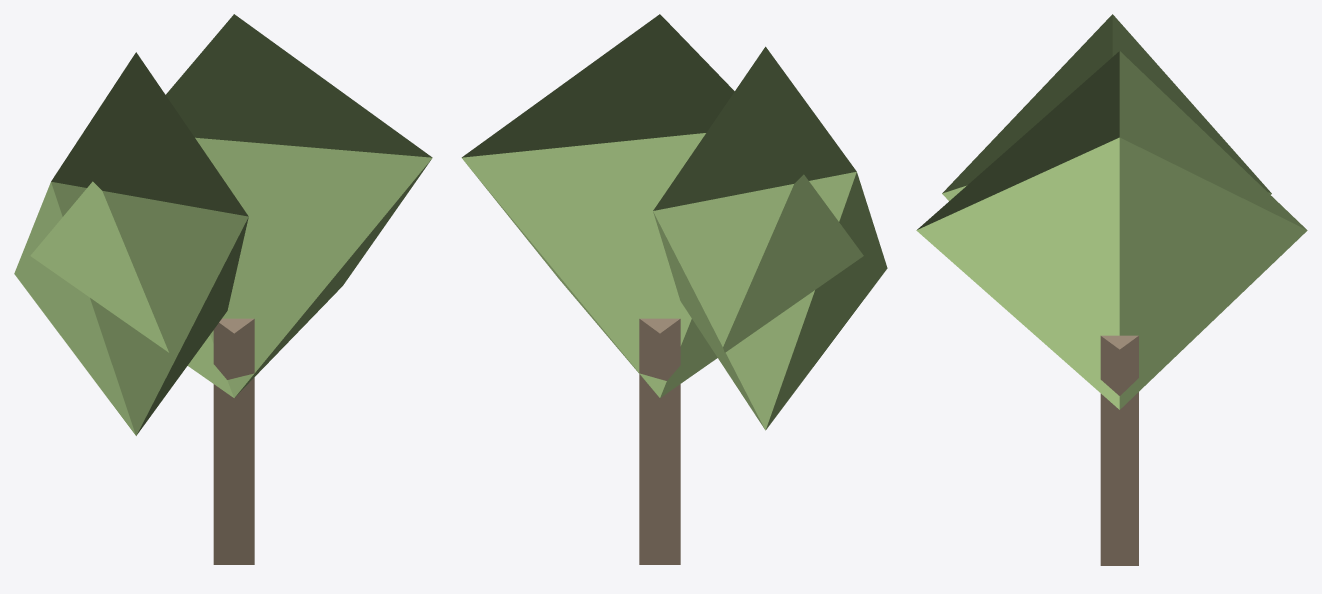
The model's file is sprout.temp.shrub_seedling__spring.glb.
3 views of the same model, side by side, from view 1: azimuth 30°, elevation 25°; view 2: azimuth 150°, elevation 25°; view 3: azimuth 270°, elevation 25° (orthographic). The views are drawn at different scales.
Parts seen in each view (by area): view 1: sprout.temp.shrub_seedling__spring; view 2: sprout.temp.shrub_seedling__spring; view 3: sprout.temp.shrub_seedling__spring.
Boxes of the visible parts, left/top/right/bottom form: sprout.temp.shrub_seedling__spring: left=14, top=14, right=432, bottom=564; sprout.temp.shrub_seedling__spring: left=461, top=14, right=887, bottom=564; sprout.temp.shrub_seedling__spring: left=916, top=14, right=1307, bottom=565.
Size of the model in its own units: 0.5383 by 0.677 by 0.462.
